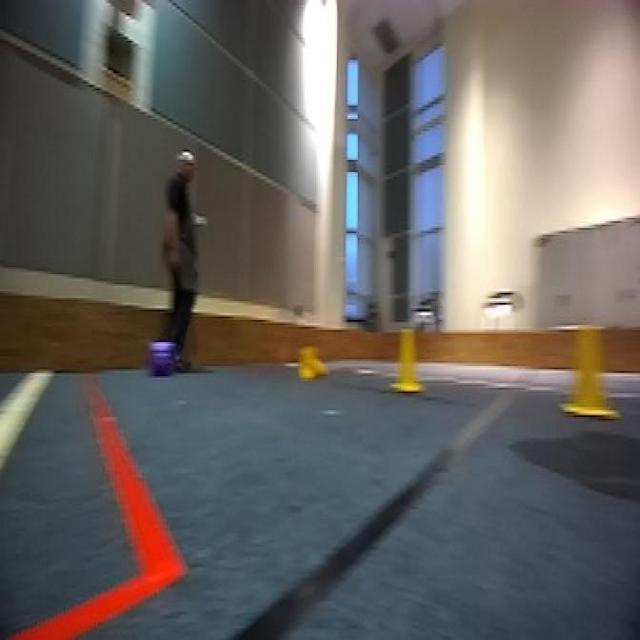frc_cone: (561, 322, 619, 422), (388, 327, 424, 391), (298, 346, 328, 380)
frc_cube: (150, 337, 174, 376)
